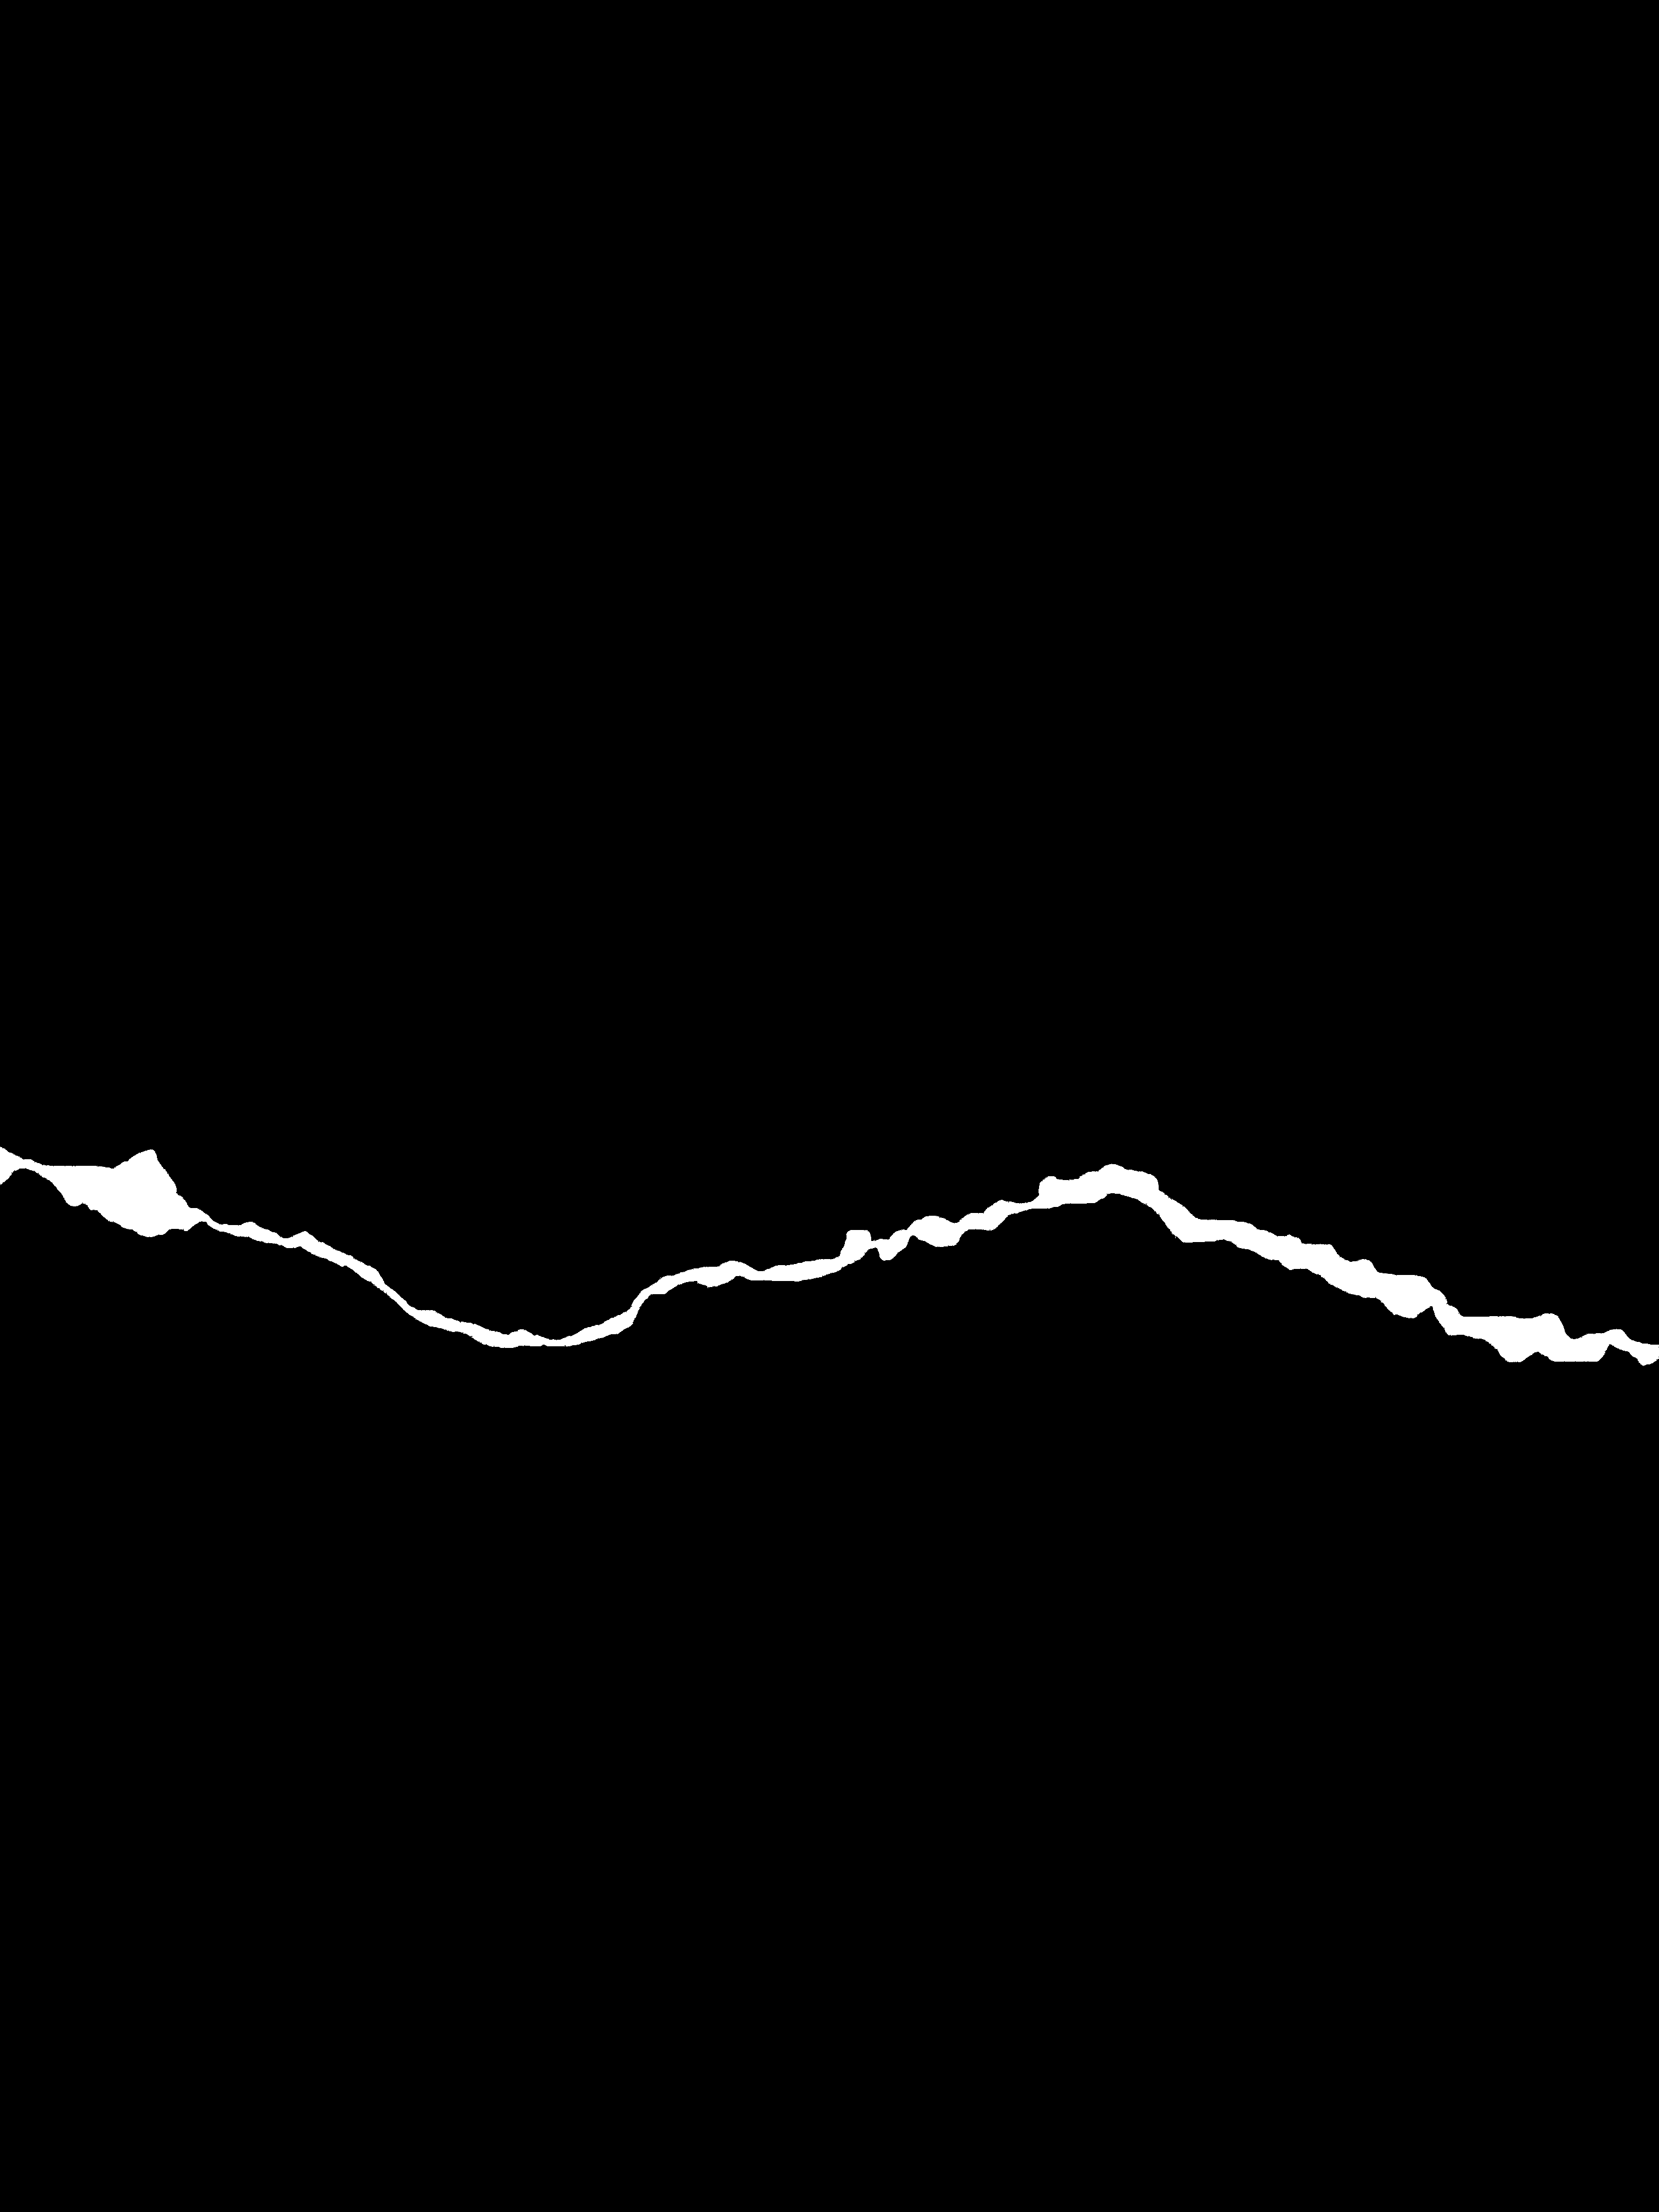Crack: (0, 1132, 1659, 1413)
